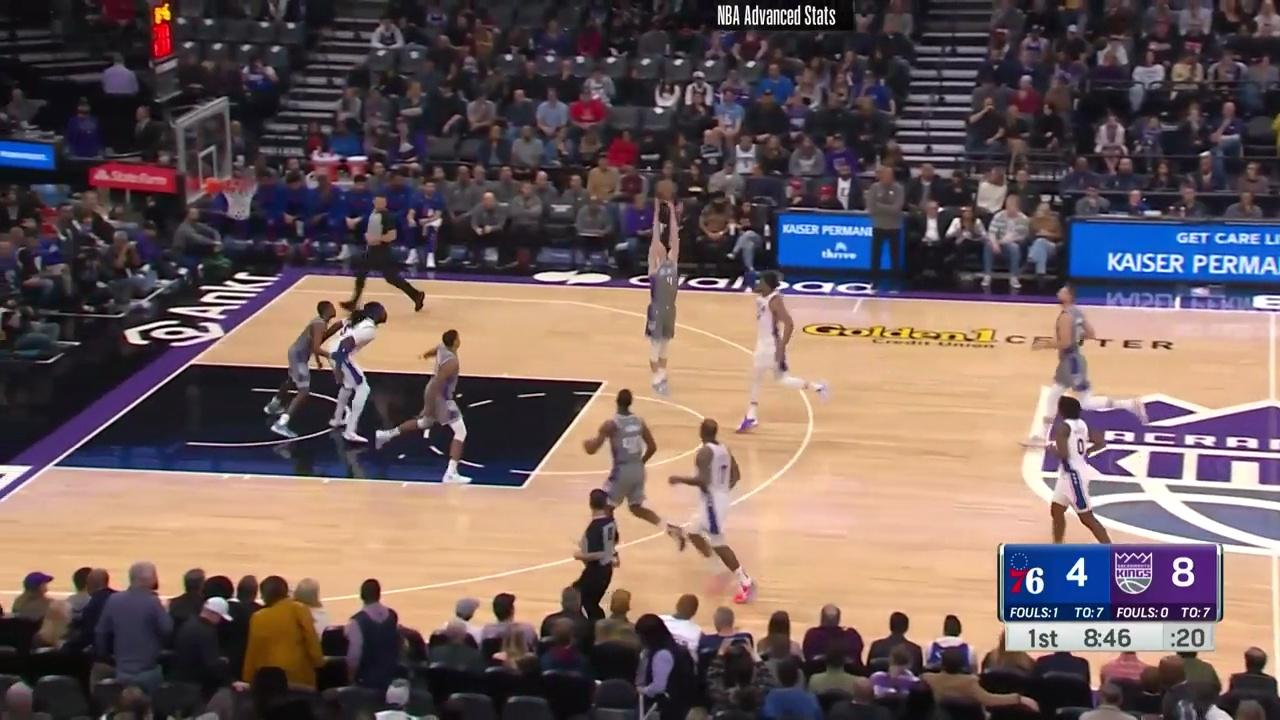Backboard: (173, 96, 237, 214)
Ball: (656, 177, 677, 200)
Basket: (220, 169, 260, 224)
Person: (596, 404, 736, 586), (734, 268, 831, 436), (588, 392, 682, 558), (672, 413, 759, 589), (1038, 389, 1119, 548), (407, 327, 481, 487), (629, 196, 683, 396), (270, 293, 345, 432), (323, 301, 390, 446), (1045, 283, 1113, 411)
Referee: (344, 192, 431, 315), (560, 485, 625, 612)
Shot Clock: (137, 2, 181, 96)
